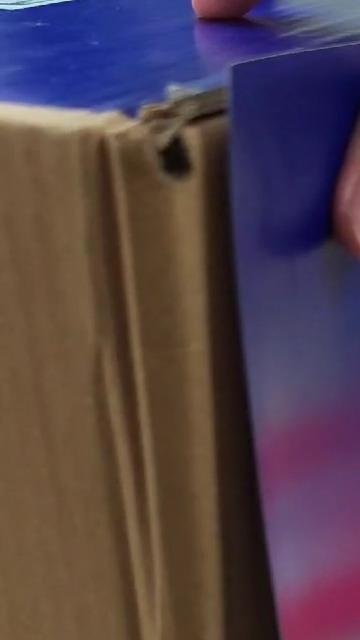B_R1: (358, 289, 360, 640)
